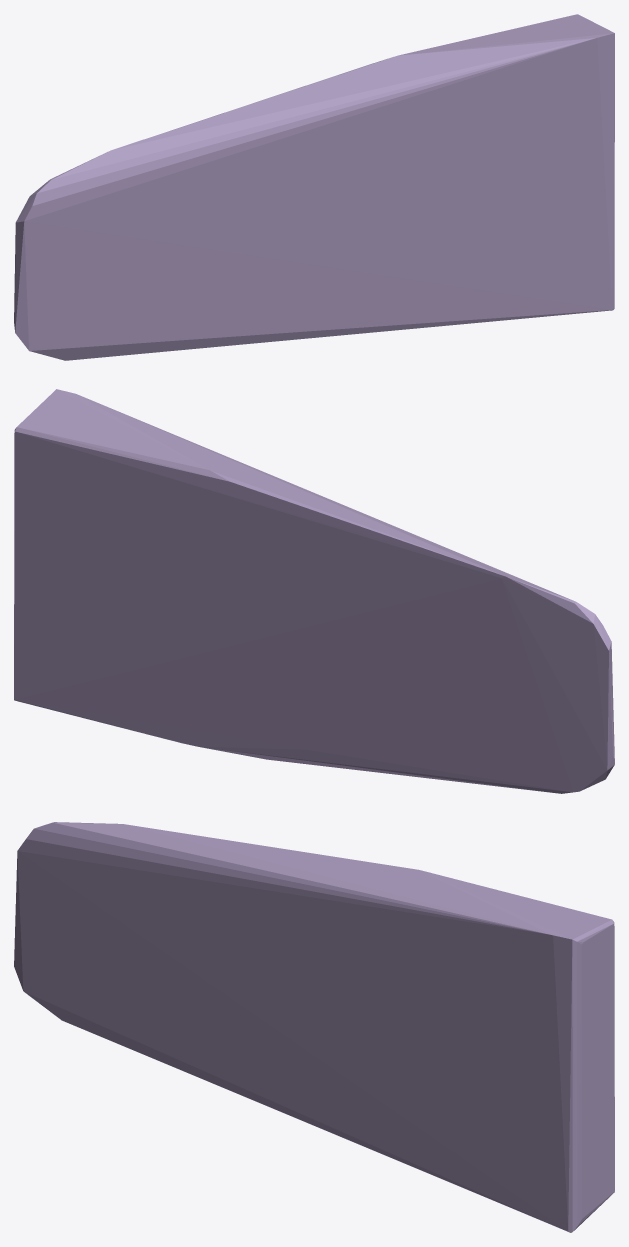
File: instrument_selfretaining_retractor_a01.glb
3 views of the same model, one above another, from view 1: azimuth 30°, elevation 25°; view 2: azimuth 150°, elevation 25°; view 3: azimuth 330°, elevation 25° (orthographic). The views are drawn at different scales.
Visible parts, largest first — view 1: geometry_0; view 2: geometry_0; view 3: geometry_0.
Boxes of the visible parts, x1,y1,x2,y2 form: geometry_0: [14, 14, 614, 360]; geometry_0: [14, 389, 614, 793]; geometry_0: [14, 822, 614, 1232].
Size of the model in its own units: 0.4794 by 0.2242 by 0.0604.
